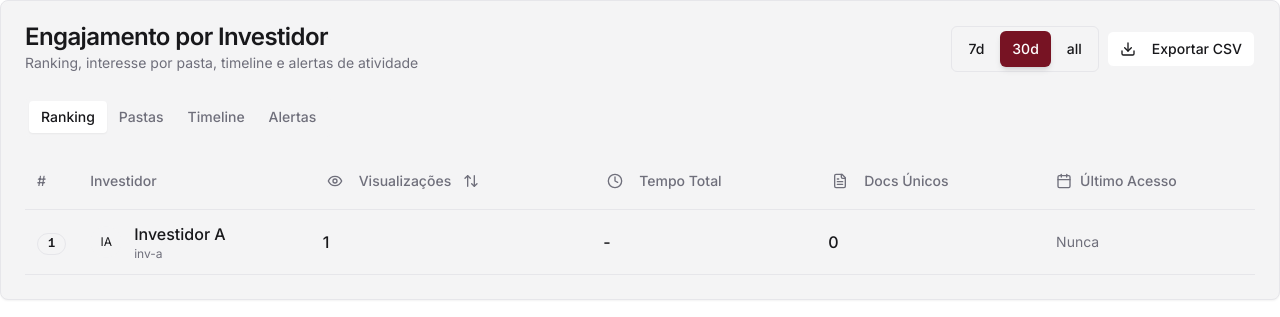
Scenario: VdrEngagementDashboard › A2 - renderiza interesse por pasta
The width and height of the screenshot is (1280, 317).
Click the tab "Pastas" at point(141, 117), box left=107, top=101, right=176, bottom=133
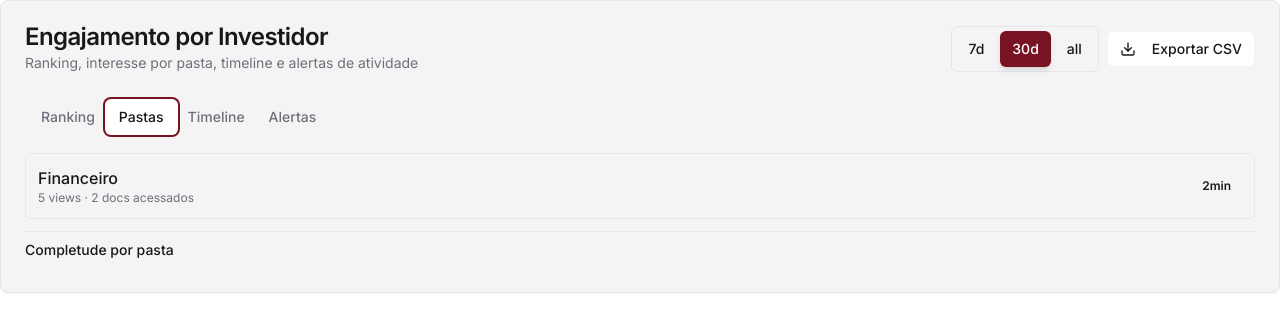
Expected: the text "Financeiro" is shown, left=38, top=168, right=118, bottom=188
